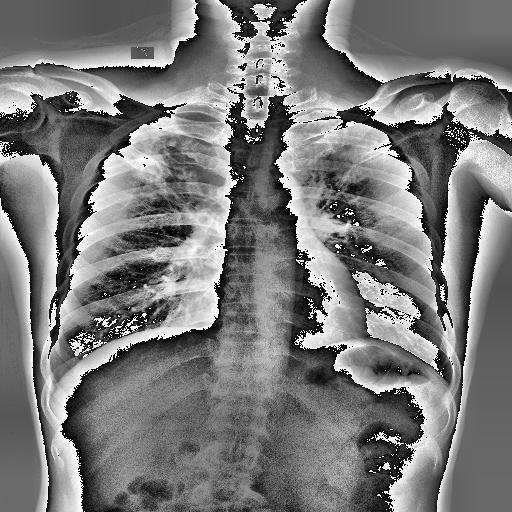13- Pulmonary fibrosis: (288, 119, 397, 226), (110, 126, 210, 210), (121, 125, 203, 209), (308, 135, 374, 209), (114, 152, 137, 170)
6- Infiltration: (121, 125, 203, 209), (108, 140, 198, 198), (308, 135, 374, 209)
7- Lung Opacity: (108, 140, 198, 198), (303, 120, 381, 182)
